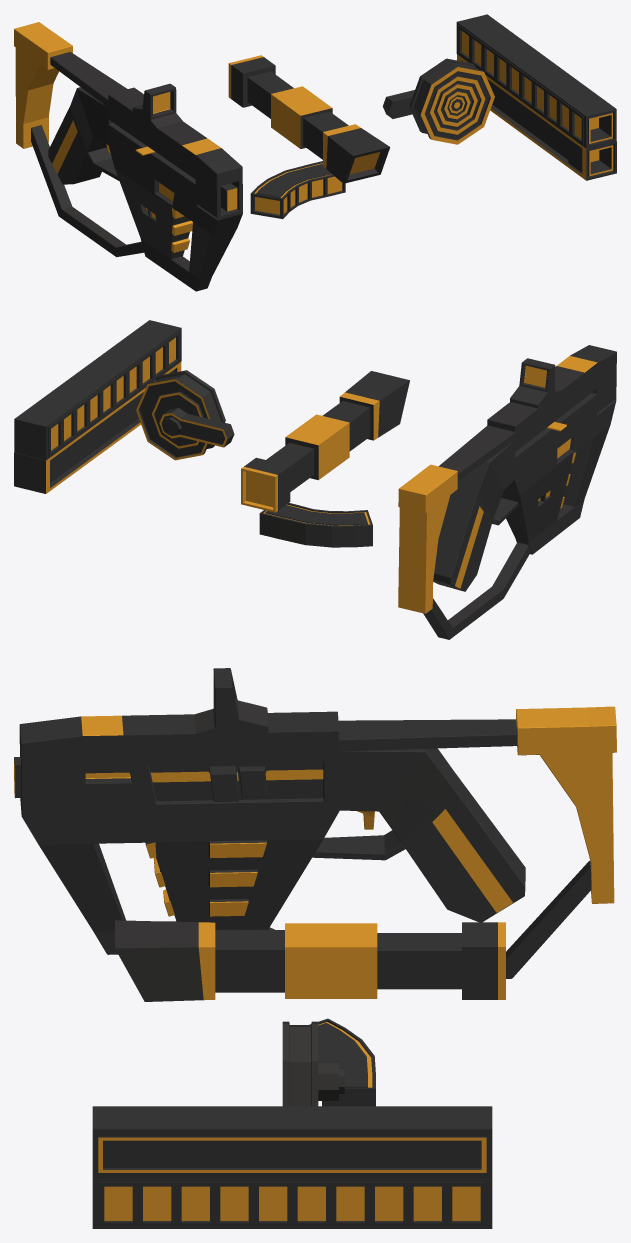
Rendered from gun-obves.fbx.
The picture shows the model from 3 angles, top to bottom: view 1: azimuth 30°, elevation 25°; view 2: azimuth 150°, elevation 25°; view 3: azimuth 270°, elevation 25°; orthographic projection. The views are drawn at different scales.
Visible parts, largest first — view 1: Cube.001, Cube, Cube.003, Cylinder, Cube.002; view 2: Cube.001, Cube, Cube.003, Cylinder, Cube.002; view 3: Cube.001, Cube, Cube.003, Cylinder, Cube.002.
Boxes of the visible parts, bbox=[...] form: Cube.001: bbox=[14, 22, 242, 291]; Cube: bbox=[456, 14, 616, 180]; Cube.003: bbox=[228, 55, 390, 183]; Cylinder: bbox=[382, 58, 494, 144]; Cube.002: bbox=[250, 161, 345, 219]; Cube.001: bbox=[398, 345, 616, 639]; Cube: bbox=[14, 320, 181, 493]; Cube.003: bbox=[241, 371, 409, 512]; Cylinder: bbox=[136, 370, 234, 460]; Cube.002: bbox=[259, 503, 372, 547]; Cube.001: bbox=[14, 668, 616, 978]; Cube: bbox=[92, 1106, 492, 1228]; Cube.003: bbox=[115, 920, 505, 1001]; Cylinder: bbox=[282, 1021, 344, 1106]; Cube.002: bbox=[309, 1018, 375, 1106].
Bounding box in the file's own units: 83.05 × 35.39 × 63.99.
